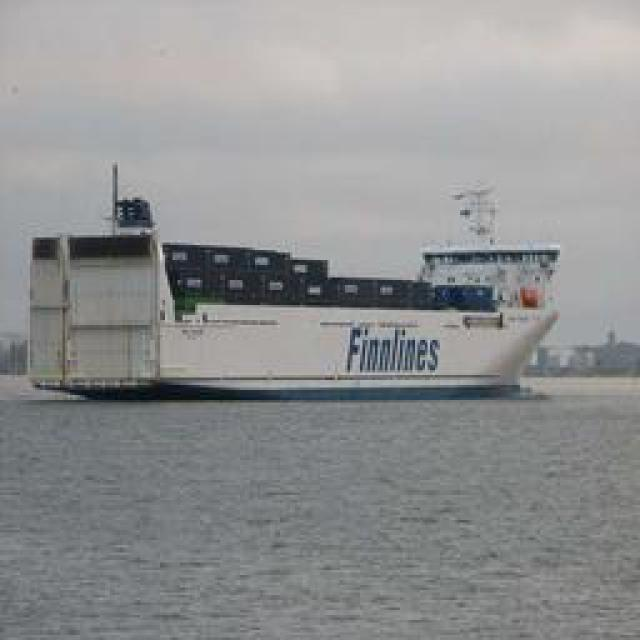Ship: (25, 155, 573, 401)
